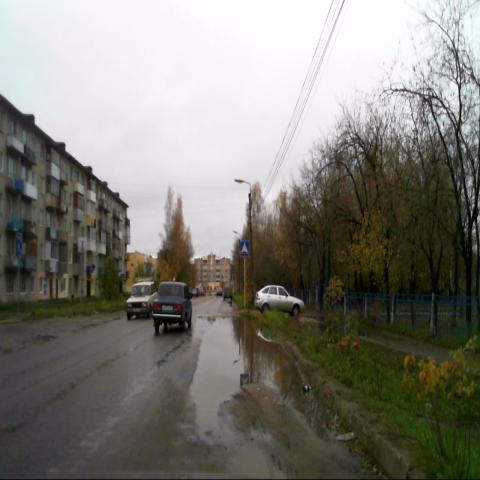5_20: (239, 240, 250, 257)
